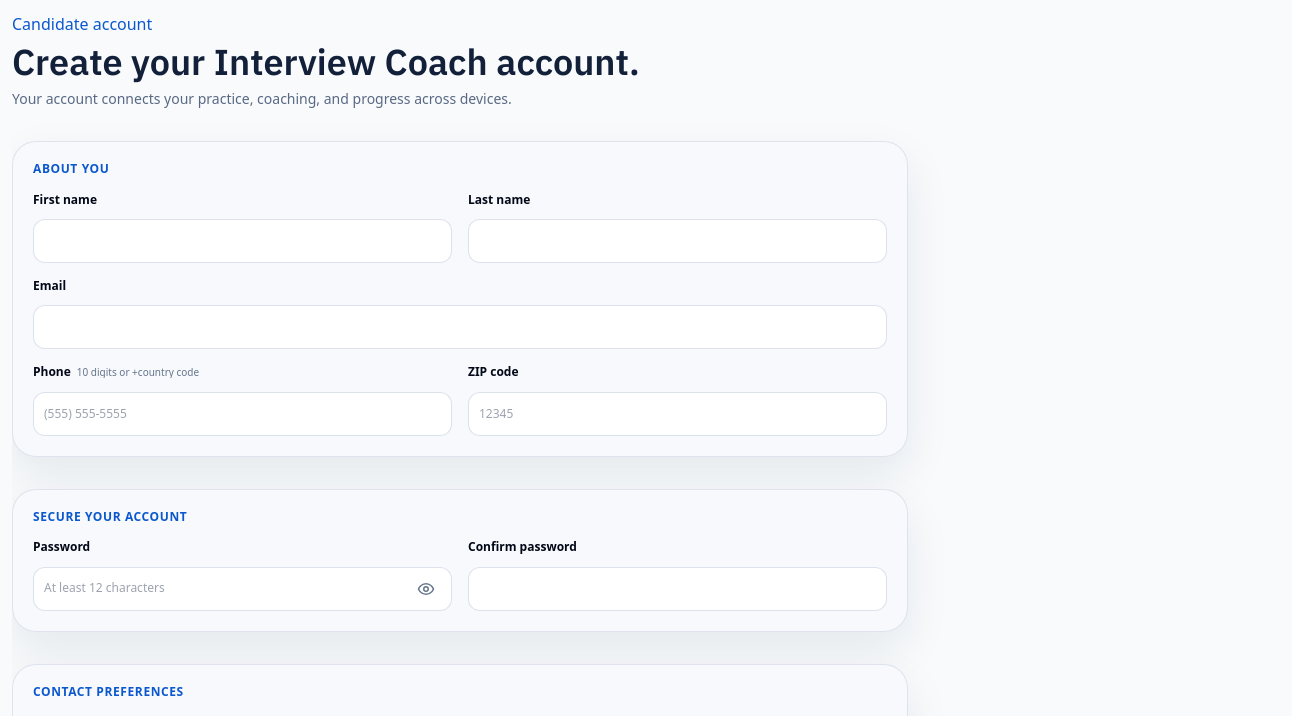
Test: candidate account experiences › guards and formats candidate registration identity inputs
The image size is (1292, 716).
Type " Sam @Example.com " into the field labelled "Email" at (460, 328), box x1=33 y1=306 x2=887 y2=350
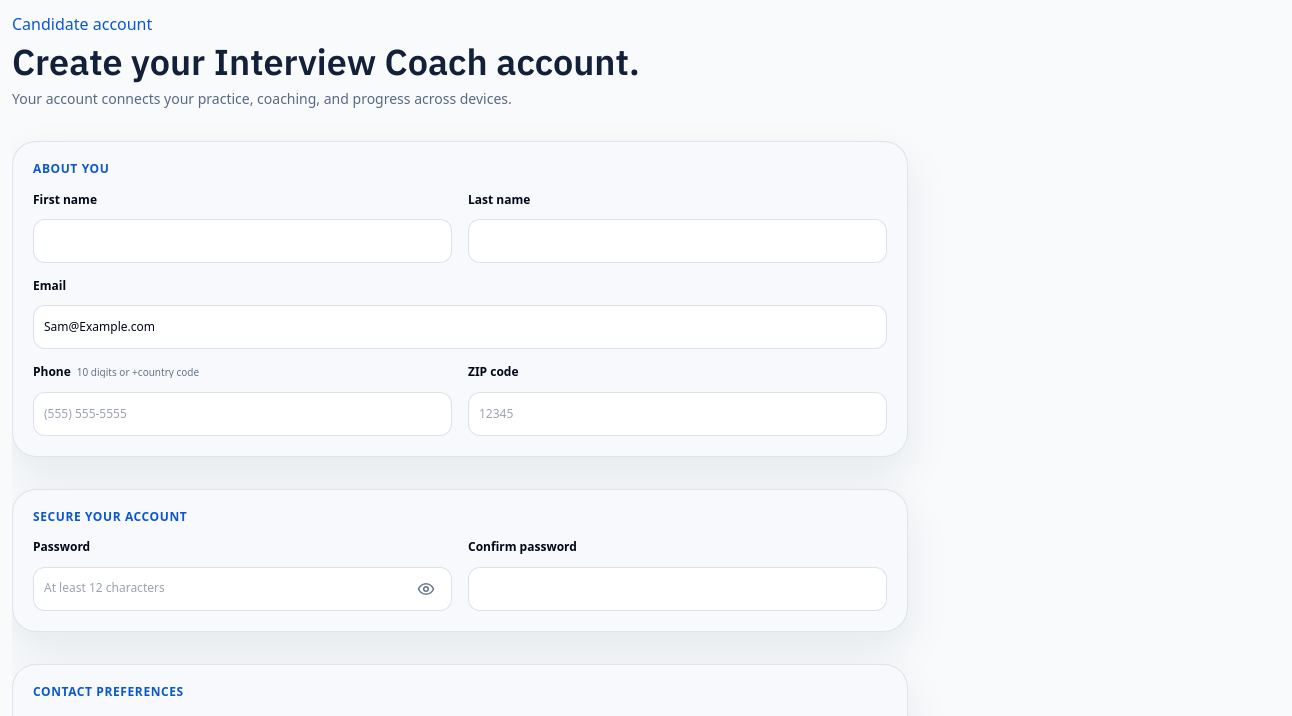
Type "1 (312) 555-0100" into the field labelled "Phone" at (242, 414), box x1=33 y1=392 x2=452 y2=436
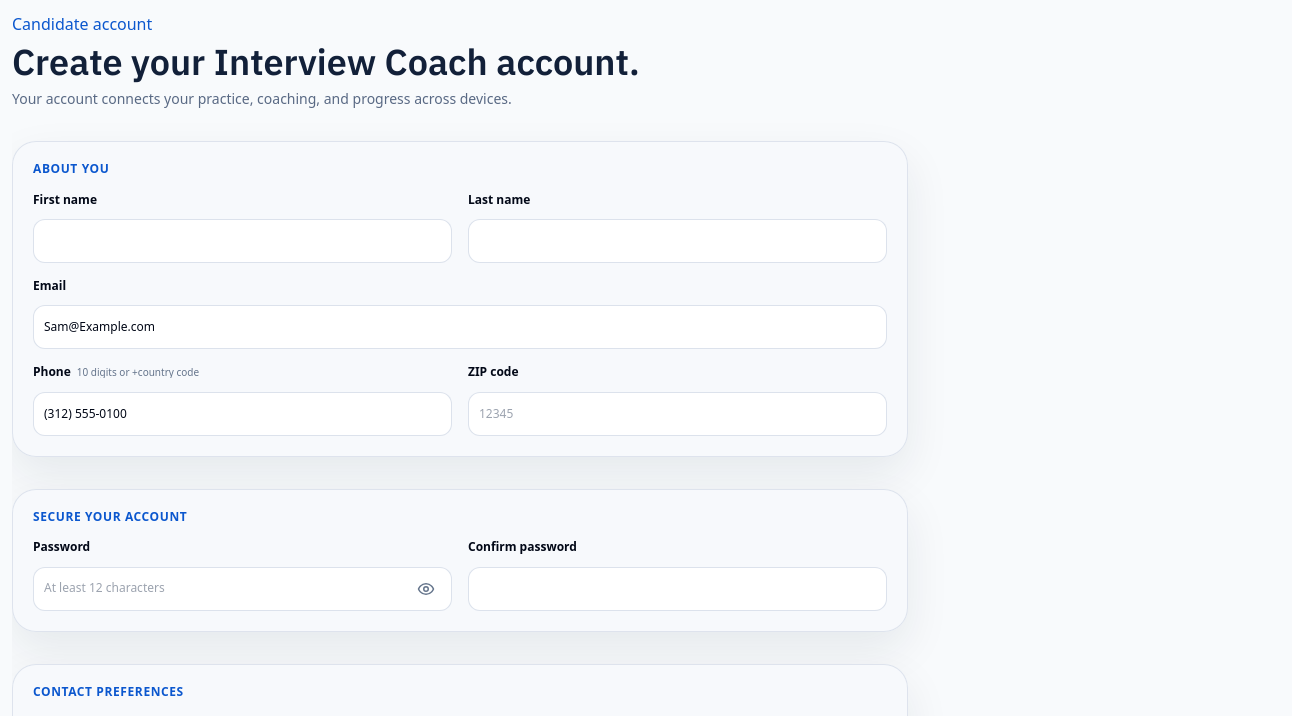
Type "02134-9999" into the field labelled "ZIP code" at (678, 414), box x1=468 y1=392 x2=887 y2=436
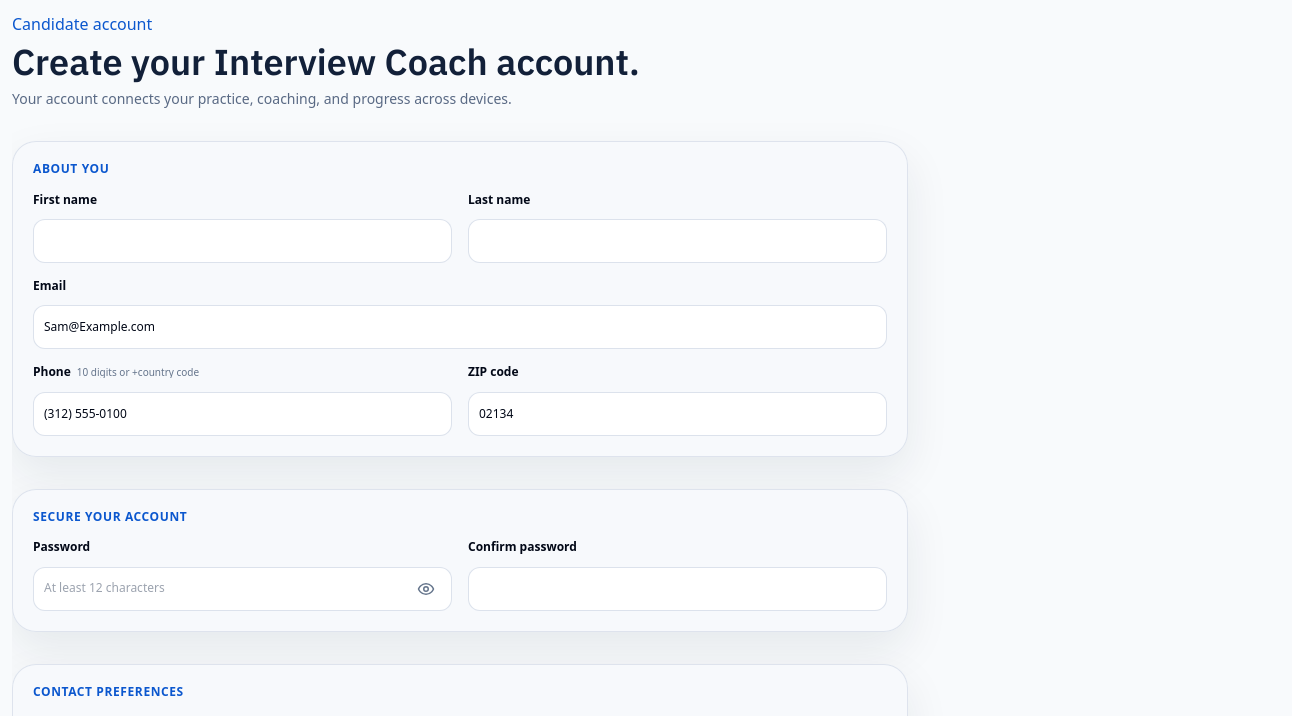
Now the field labelled "Email" holds "Sam@Example.com", box x1=33 y1=306 x2=887 y2=350
Now the field labelled "Phone" holds "(312) 555-0100", box x1=33 y1=392 x2=452 y2=436
Now the field labelled "ZIP code" holds "02134", box x1=468 y1=392 x2=887 y2=436
